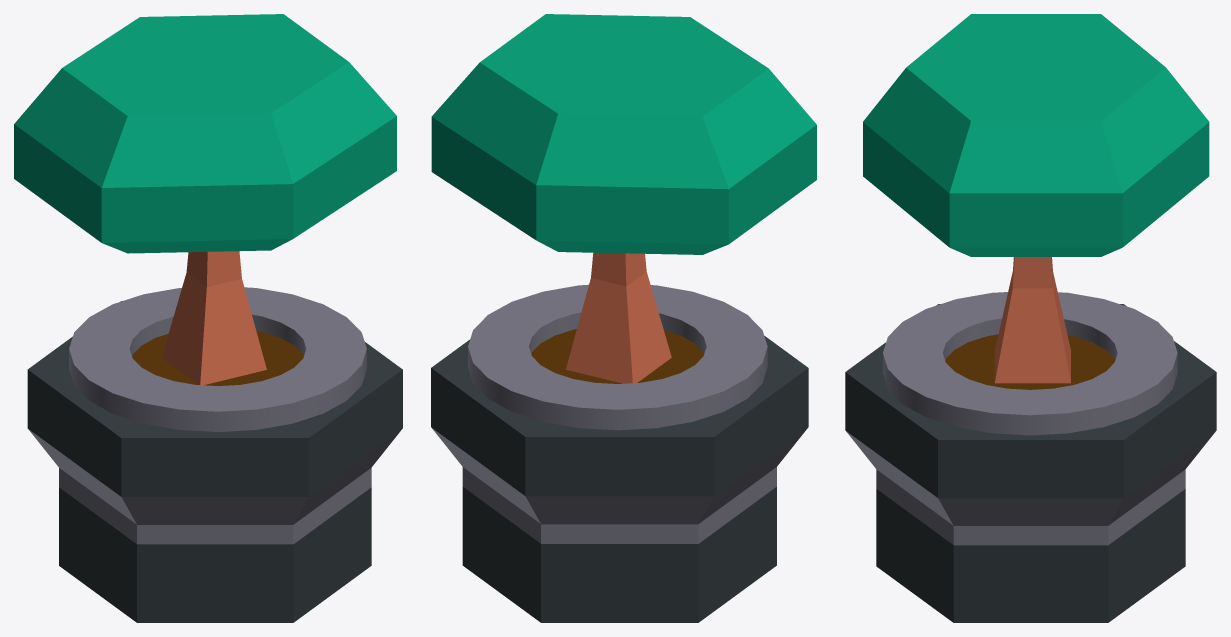
Rendered from PotPlant.fbx.
The picture shows the model from 3 angles, left to right: view 1: azimuth 30°, elevation 25°; view 2: azimuth 150°, elevation 25°; view 3: azimuth 270°, elevation 25°; orthographic projection.
Visible parts, largest first — view 1: leafs_round, hexagon_overhang, cylinderHollow, tree_branchLong, hexagon; view 2: leafs_round, hexagon_overhang, cylinderHollow, tree_branchLong, hexagon; view 3: leafs_round, hexagon_overhang, cylinderHollow, tree_branchLong, hexagon.
Part boxes in pixels (bbox=[...]): leafs_round: bbox=[14, 14, 396, 253]; hexagon_overhang: bbox=[27, 301, 402, 622]; cylinderHollow: bbox=[69, 287, 366, 431]; tree_branchLong: bbox=[161, 251, 266, 385]; hexagon: bbox=[132, 331, 303, 385]; leafs_round: bbox=[431, 14, 816, 254]; hexagon_overhang: bbox=[431, 336, 808, 622]; cylinderHollow: bbox=[468, 284, 767, 430]; tree_branchLong: bbox=[566, 252, 671, 383]; hexagon: bbox=[531, 329, 704, 383]; leafs_round: bbox=[863, 14, 1209, 256]; hexagon_overhang: bbox=[845, 304, 1216, 622]; cylinderHollow: bbox=[883, 292, 1177, 435]; tree_branchLong: bbox=[994, 257, 1070, 383]; hexagon: bbox=[945, 334, 1115, 389].
Bounding box in the file's own units: 6.3 × 10.2 × 6.93.
